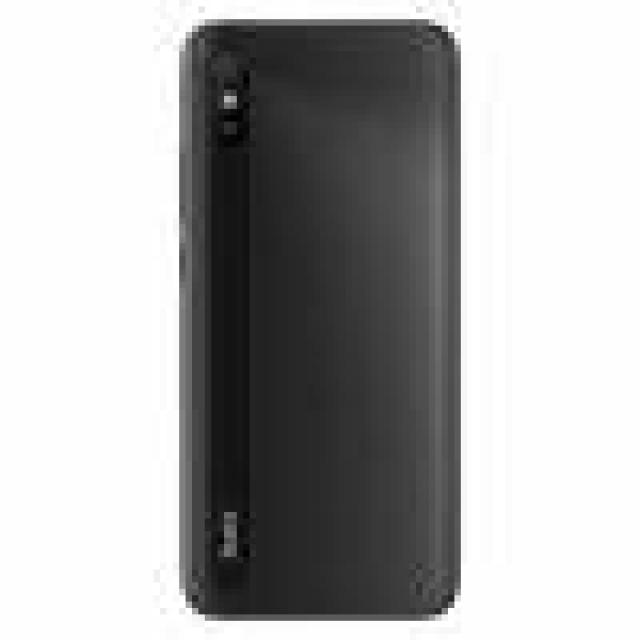No gun_phone: (180, 24, 470, 625)
